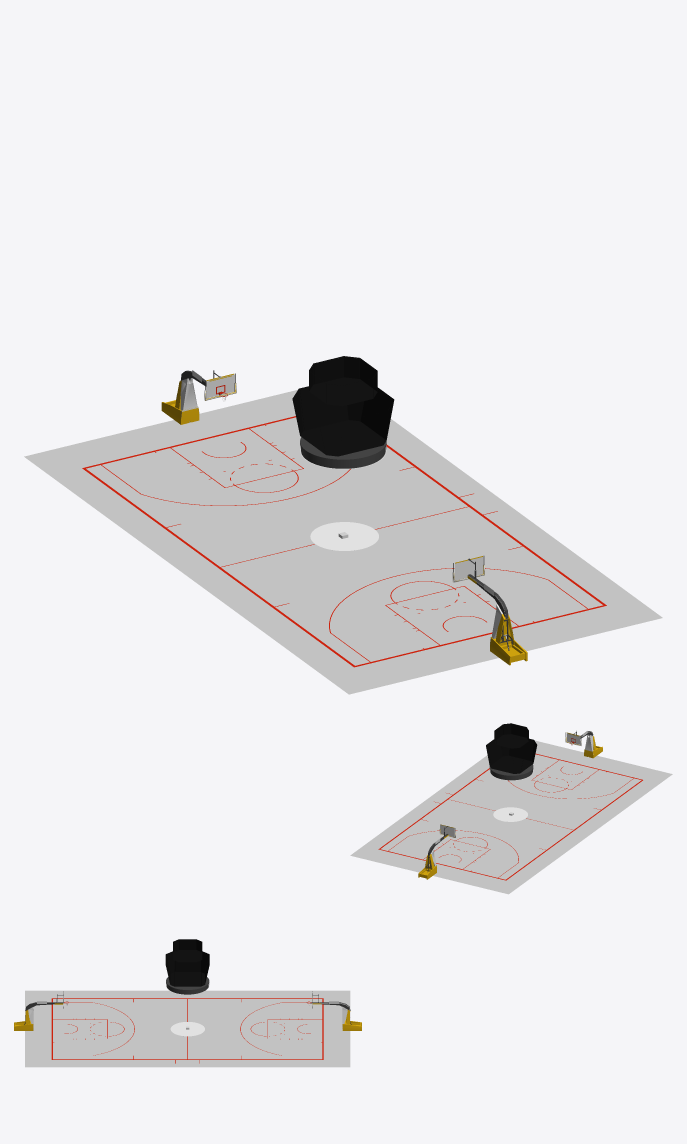
File: court.glb
3 renders of one model, top to bottom at view 1: azimuth 30°, elevation 25°; view 2: azimuth 150°, elevation 25°; view 3: azimuth 270°, elevation 25°, orthographic. The views are drawn at different scales.
Visible parts, largest first — view 1: Plane, Cube.001, Material2.002, Cube.002, Material2.033, Cylinder; view 2: Plane, Material2.002, Cube.001, Cube.002, Material2.033, Cylinder; view 3: Plane, Material2.002, Cube.001, Cube.002, Material2.033, Cylinder.
Boxes of the visible parts, x1,y1,x2,y2 form: Plane: [24, 390, 662, 694]; Cube.001: [292, 386, 394, 456]; Material2.002: [82, 416, 606, 667]; Cube.002: [309, 356, 377, 406]; Material2.033: [310, 522, 378, 550]; Cylinder: [300, 437, 386, 468]; Plane: [350, 740, 672, 894]; Material2.002: [378, 753, 642, 880]; Cube.001: [486, 738, 537, 773]; Cube.002: [494, 723, 528, 748]; Material2.033: [493, 807, 527, 821]; Cylinder: [489, 764, 533, 780]; Plane: [25, 990, 350, 1067]; Material2.002: [51, 998, 323, 1063]; Cube.001: [165, 951, 209, 986]; Cube.002: [173, 939, 202, 962]; Material2.033: [170, 1022, 204, 1036]; Cylinder: [166, 977, 209, 994].
Size of the model in its own units: 213 by 52.18 by 367.
